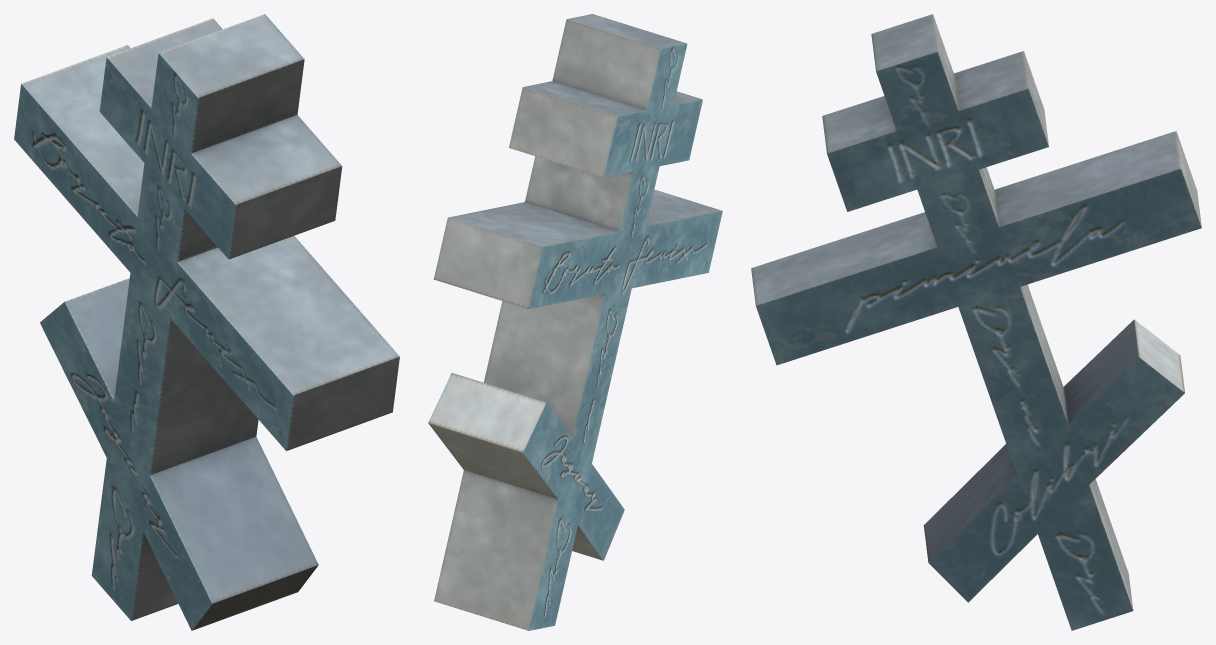
3 renders of one model, left to right at view 1: azimuth 30°, elevation 25°; view 2: azimuth 150°, elevation 25°; view 3: azimuth 270°, elevation 25°, orthographic. The views are drawn at different scales.
Visible parts, largest first — view 1: Cruz_Orto_Cube.011; view 2: Cruz_Orto_Cube.011; view 3: Cruz_Orto_Cube.011.
Part boxes in pixels (<box>): Cruz_Orto_Cube.011: <box>14,14,399,630</box>; Cruz_Orto_Cube.011: <box>428,14,722,630</box>; Cruz_Orto_Cube.011: <box>751,14,1201,630</box>.
Size of the model in its own units: 0.6978 by 2.69 by 1.94.
